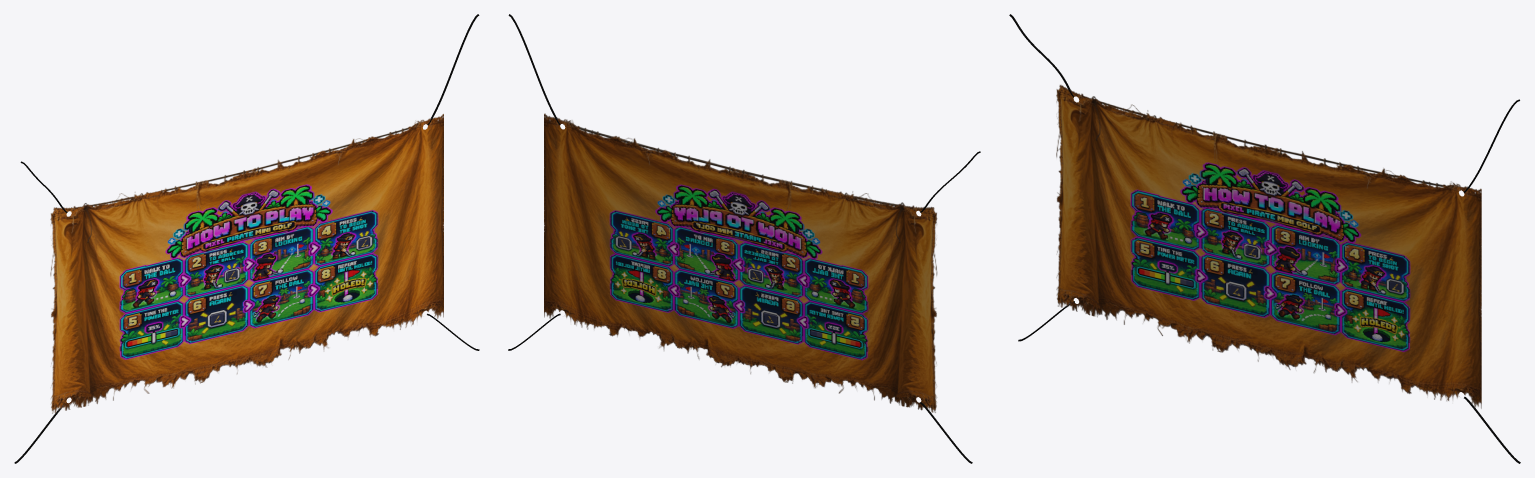
Rendered from Tutorial Mobile.glb.
The picture shows the model from 3 angles, left to right: view 1: azimuth 30°, elevation 25°; view 2: azimuth 150°, elevation 25°; view 3: azimuth 330°, elevation 25°; orthographic projection. The views are drawn at different scales.
Visible parts, largest first — view 1: Notice Board_Mobile; view 2: Notice Board_Mobile; view 3: Notice Board_Mobile.
Boxes of the visible parts, x1,y1,x2,y2 form: Notice Board_Mobile: (14,14,479,463); Notice Board_Mobile: (508,14,980,463); Notice Board_Mobile: (1009,14,1520,463).
Size of the model in its own units: 5.97 by 4.12 by 0.176.
2 materials, 1 textured.
